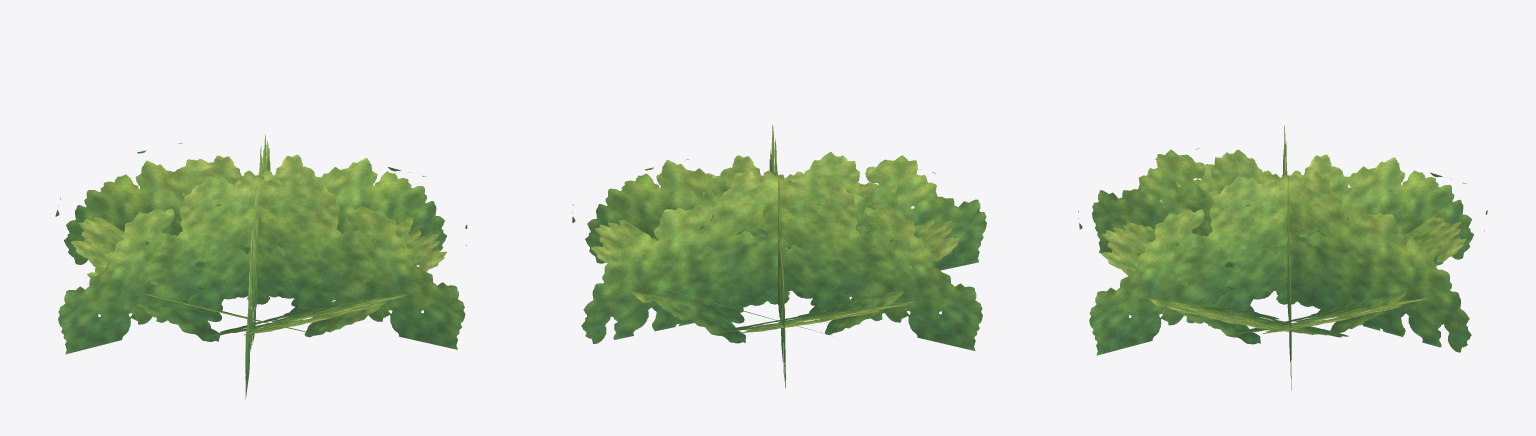
Rendered from shrub_low.glb.
3 views of the same model, side by side, from view 1: azimuth 30°, elevation 25°; view 2: azimuth 150°, elevation 25°; view 3: azimuth 270°, elevation 25° (orthographic).
Visible parts, largest first — view 1: shrub_low; view 2: shrub_low; view 3: shrub_low.
Part boxes in pixels (x1,y1,x2,y2): shrub_low: [55, 134, 467, 399]; shrub_low: [572, 125, 986, 388]; shrub_low: [1078, 125, 1487, 390].
Size of the model in its own units: 0.9198 by 0.32 by 0.7797.
Materials: 1 (1 with a texture image).
